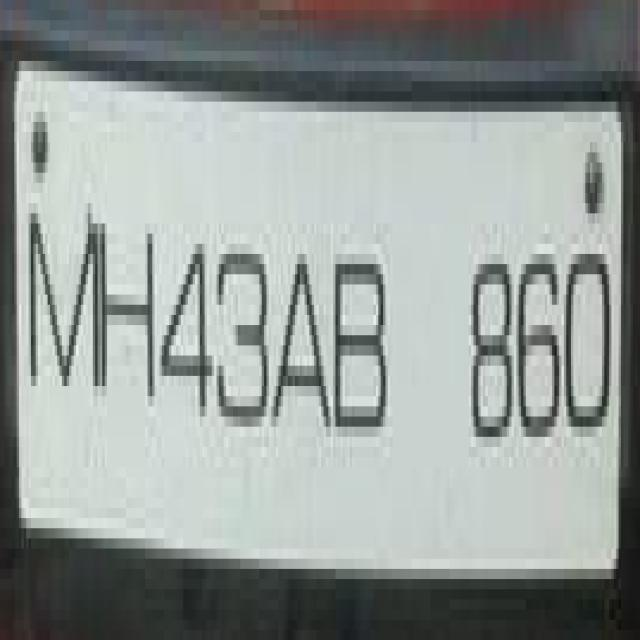license_plate: (31, 61, 638, 630)
